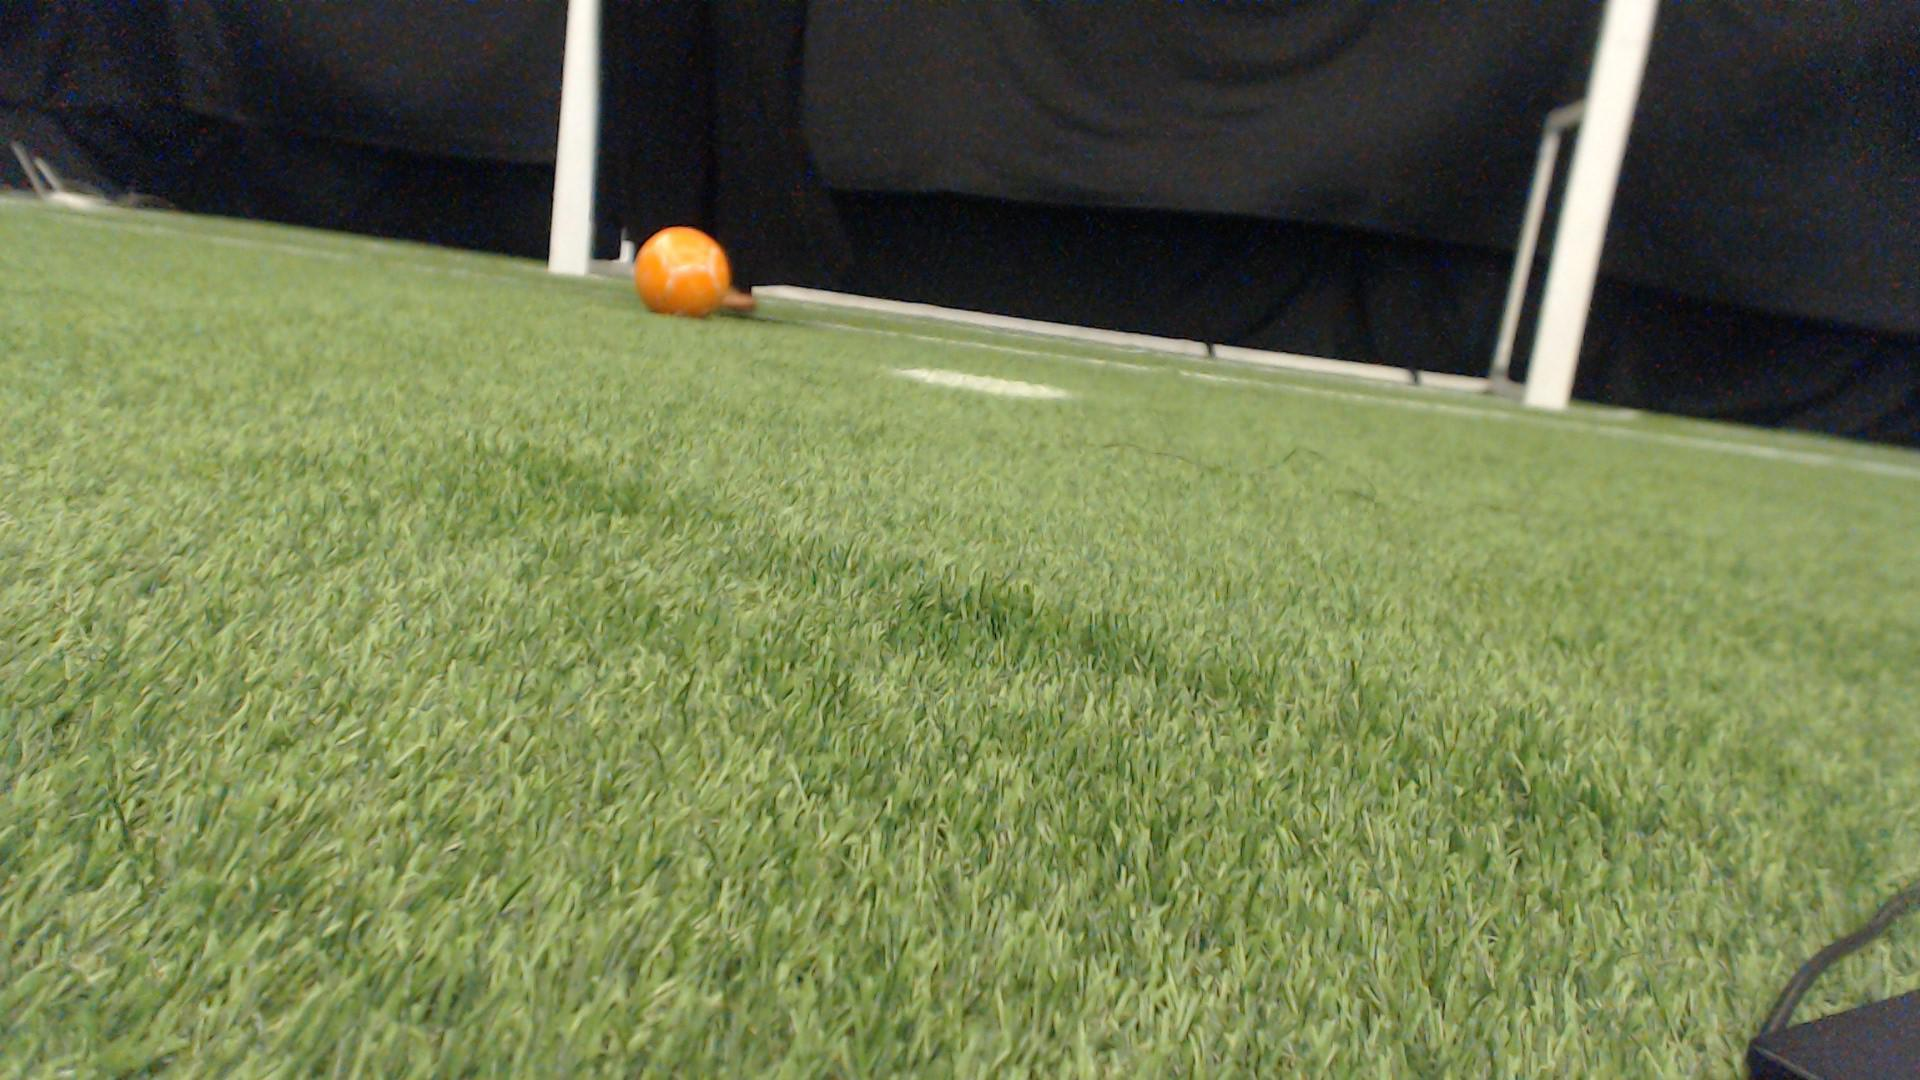bola: (628, 219, 746, 334)
